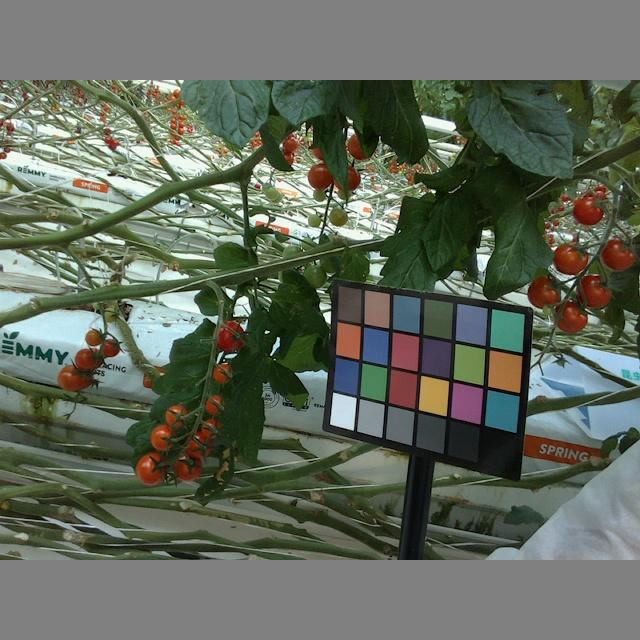green: (303, 265, 328, 291), (281, 242, 304, 266), (328, 206, 349, 226), (307, 212, 324, 227)
pink: (133, 451, 167, 486), (56, 360, 95, 389), (348, 127, 377, 161), (173, 455, 203, 485), (334, 161, 359, 192), (307, 163, 333, 192), (151, 425, 178, 452), (200, 417, 227, 443), (186, 432, 213, 458), (72, 343, 97, 371), (162, 406, 189, 429), (212, 362, 235, 384), (204, 395, 228, 416), (82, 328, 103, 345)
red: (553, 238, 589, 275), (599, 237, 637, 271), (577, 272, 612, 307), (528, 276, 564, 309), (213, 319, 247, 353), (553, 300, 588, 331), (571, 197, 605, 224)
